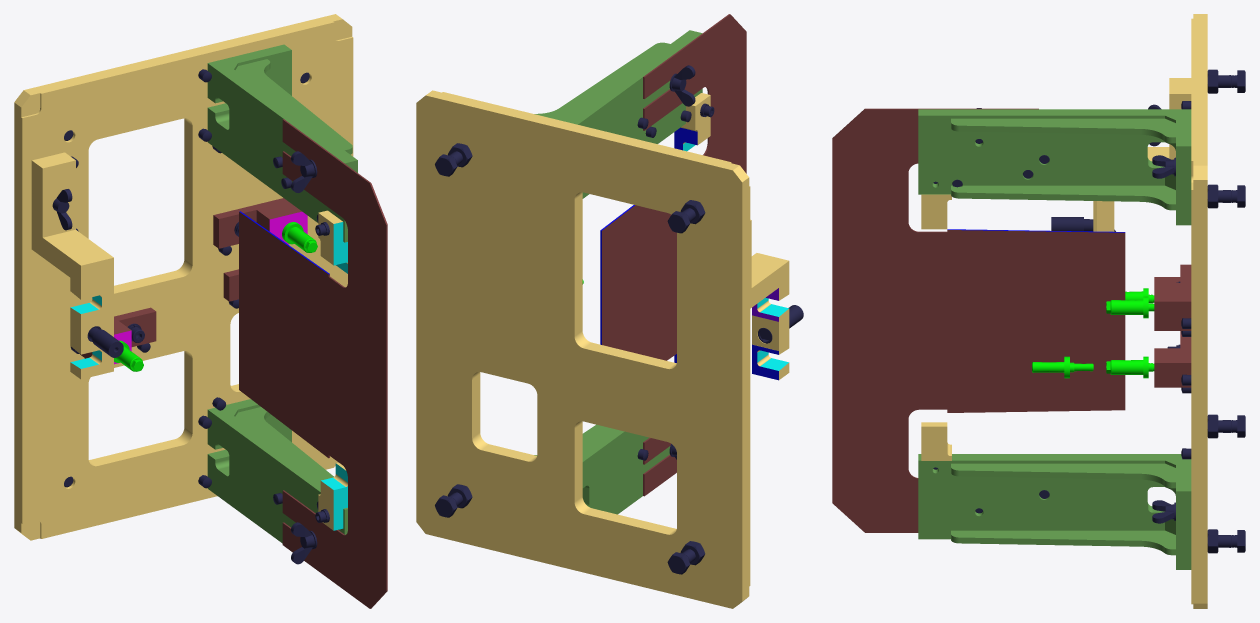
File: DK145902_TRAY-ASSY-BATTERY_K00_260413_KEN.obj
3 views of the same model, side by side, from view 1: azimuth 30°, elevation 25°; view 2: azimuth 150°, elevation 25°; view 3: azimuth 270°, elevation 25° (orthographic).
Parts seen in each view (by area): view 1: Shell_000, Shell_070, Shell_047, Shell_055, Shell_043, Shell_038, Shell_066, Shell_033, Shell_062, Shell_039, Shell_045, Shell_057 (+2 smaller); view 2: Shell_000, Shell_070, Shell_047, Shell_055, Shell_043, Shell_062, Shell_049; view 3: Shell_070, Shell_047, Shell_055, Shell_000, Shell_038, Shell_043, Shell_027, Shell_066, Shell_062, Shell_028, Shell_039, Shell_029 (+1 smaller).
Boxes of the visible parts, bbox=[...] form: Shell_000: bbox=[14, 14, 353, 540]; Shell_070: bbox=[239, 119, 387, 608]; Shell_047: bbox=[207, 44, 357, 242]; Shell_055: bbox=[207, 399, 347, 543]; Shell_043: bbox=[31, 152, 113, 379]; Shell_038: bbox=[213, 198, 307, 248]; Shell_066: bbox=[318, 462, 347, 530]; Shell_033: bbox=[80, 307, 156, 364]; Shell_062: bbox=[318, 210, 347, 273]; Shell_039: bbox=[282, 222, 317, 252]; Shell_045: bbox=[88, 327, 123, 357]; Shell_057: bbox=[291, 522, 314, 564]; Shell_000: bbox=[416, 90, 750, 608]; Shell_070: bbox=[600, 14, 746, 496]; Shell_047: bbox=[534, 30, 702, 198]; Shell_055: bbox=[534, 424, 670, 514]; Shell_043: bbox=[750, 219, 789, 380]; Shell_062: bbox=[674, 93, 710, 151]; Shell_049: bbox=[672, 65, 695, 106]; Shell_070: bbox=[832, 108, 1125, 532]; Shell_047: bbox=[918, 109, 1191, 225]; Shell_055: bbox=[918, 454, 1191, 569]; Shell_000: bbox=[1191, 14, 1207, 608]; Shell_038: bbox=[1154, 264, 1191, 330]; Shell_043: bbox=[1093, 78, 1191, 231]; Shell_027: bbox=[1154, 331, 1191, 387]; Shell_066: bbox=[921, 422, 951, 460]; Shell_062: bbox=[921, 194, 951, 229]; Shell_028: bbox=[1106, 356, 1154, 378]; Shell_039: bbox=[1106, 296, 1154, 318]; Shell_029: bbox=[1032, 356, 1093, 378].
Size of the model in its own units: 350 by 450 by 380.
